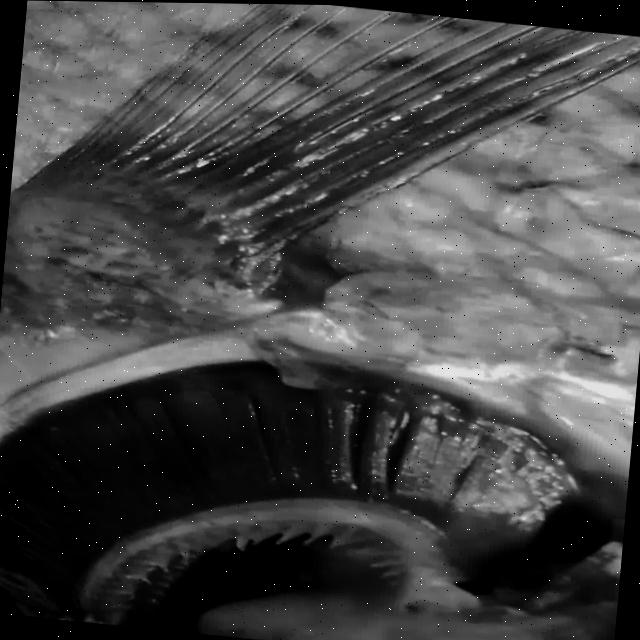Non-Fresh: (0, 322, 595, 640)
